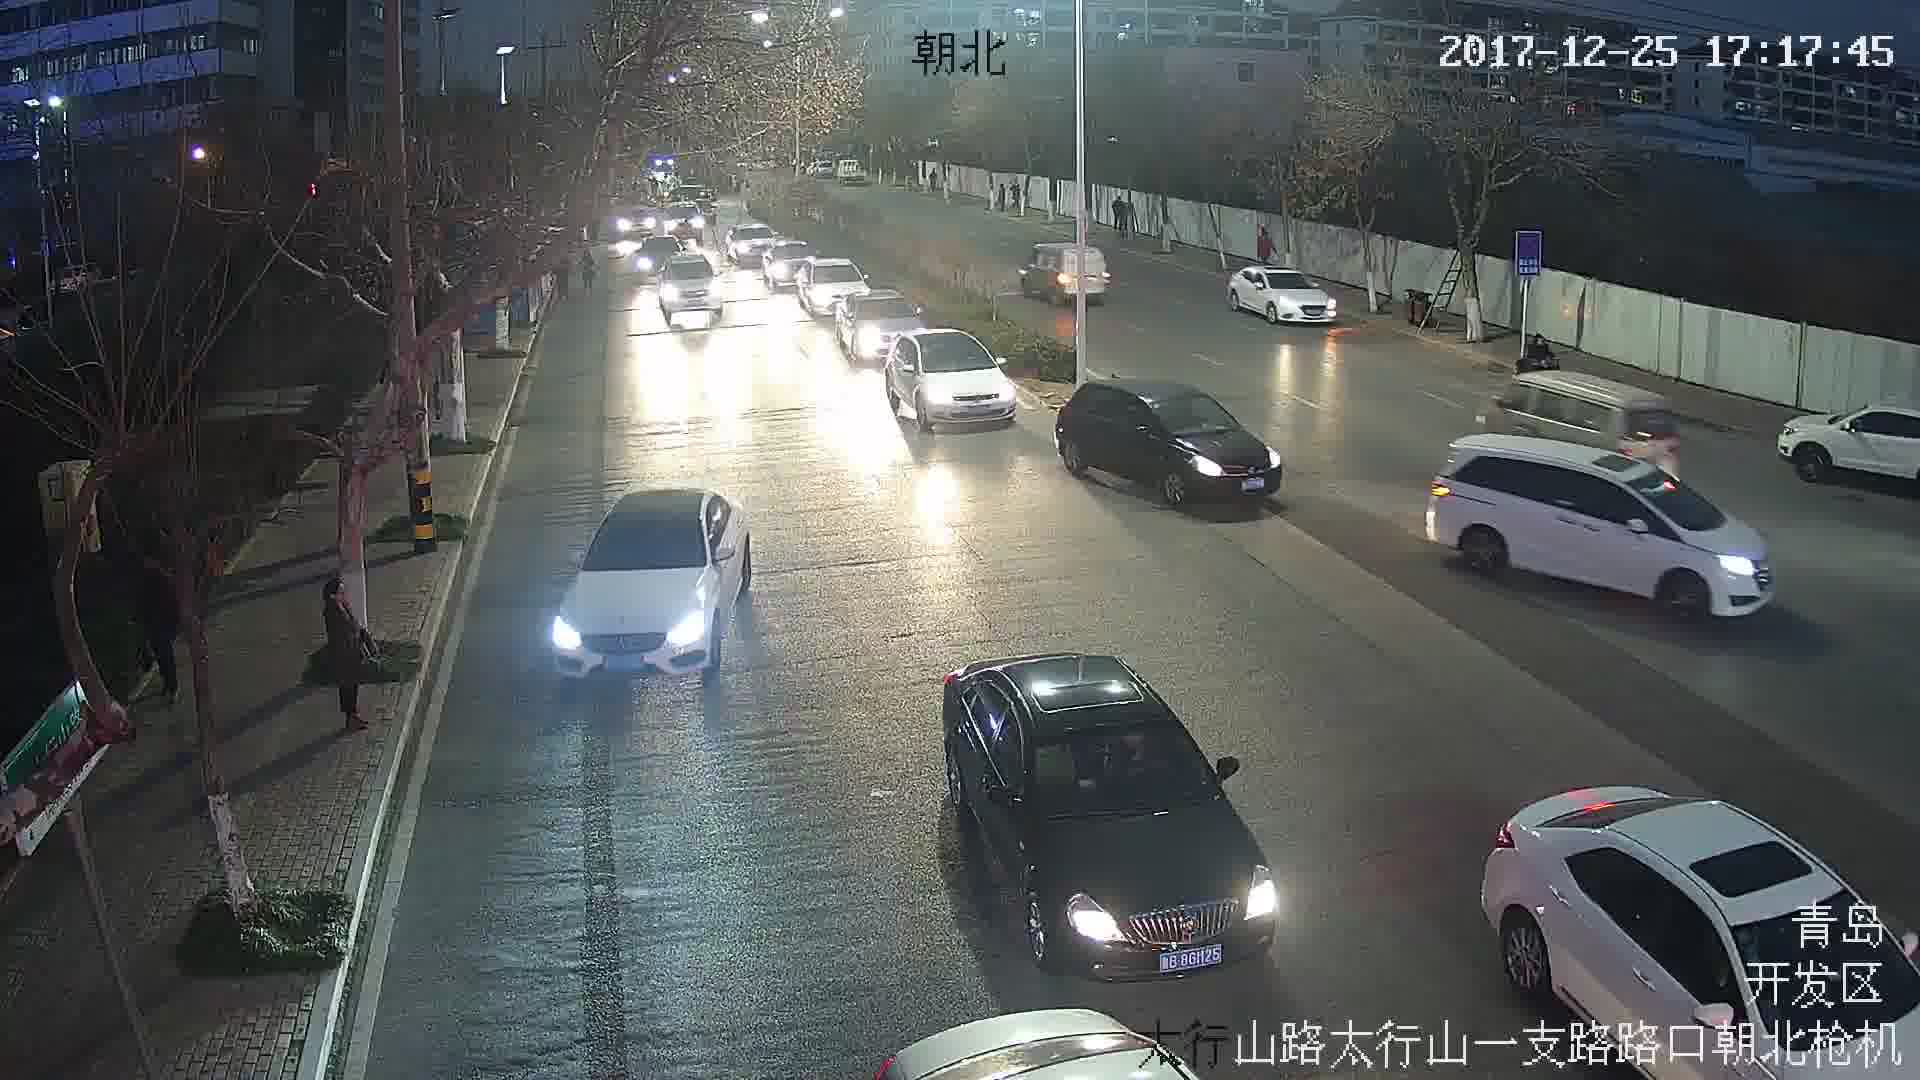car: (934, 650, 1275, 975), (1434, 435, 1770, 625), (549, 485, 750, 696), (1052, 381, 1284, 509), (1475, 371, 1678, 482), (877, 334, 1018, 431), (1223, 260, 1342, 331), (842, 294, 931, 357), (657, 256, 730, 325), (1024, 246, 1113, 300)
person: (327, 589, 375, 728), (1248, 231, 1275, 269)
